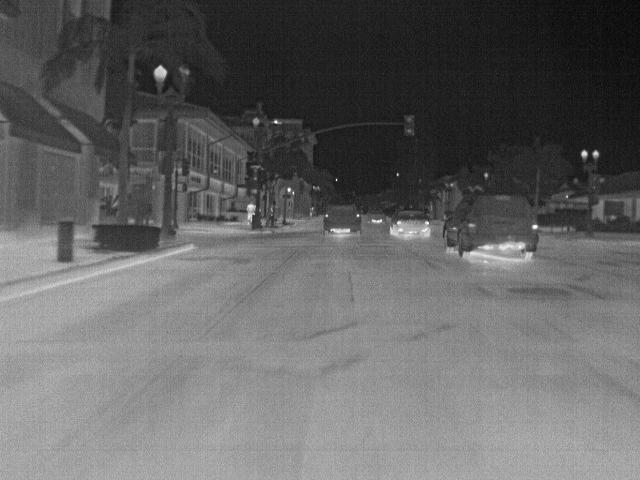car: (443, 190, 539, 260), (389, 208, 433, 241), (322, 203, 364, 237), (366, 210, 389, 226)
person: (246, 200, 254, 223)
